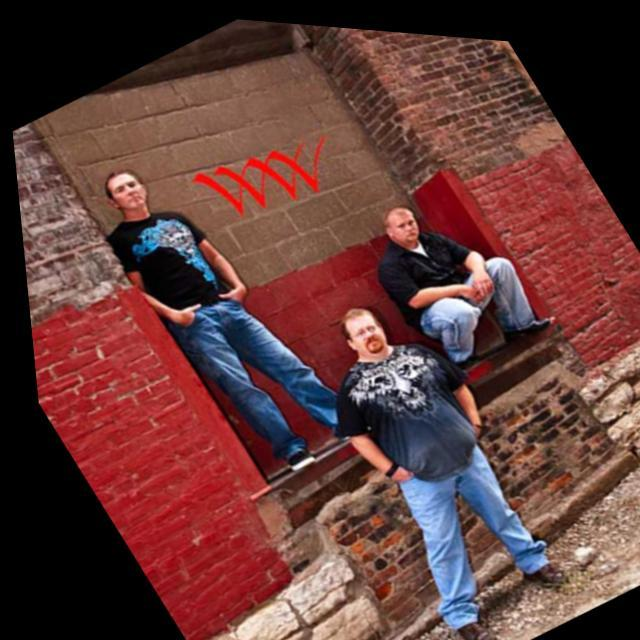Nonhelmet: (333, 299, 397, 371), (97, 159, 153, 225), (379, 203, 420, 255)
